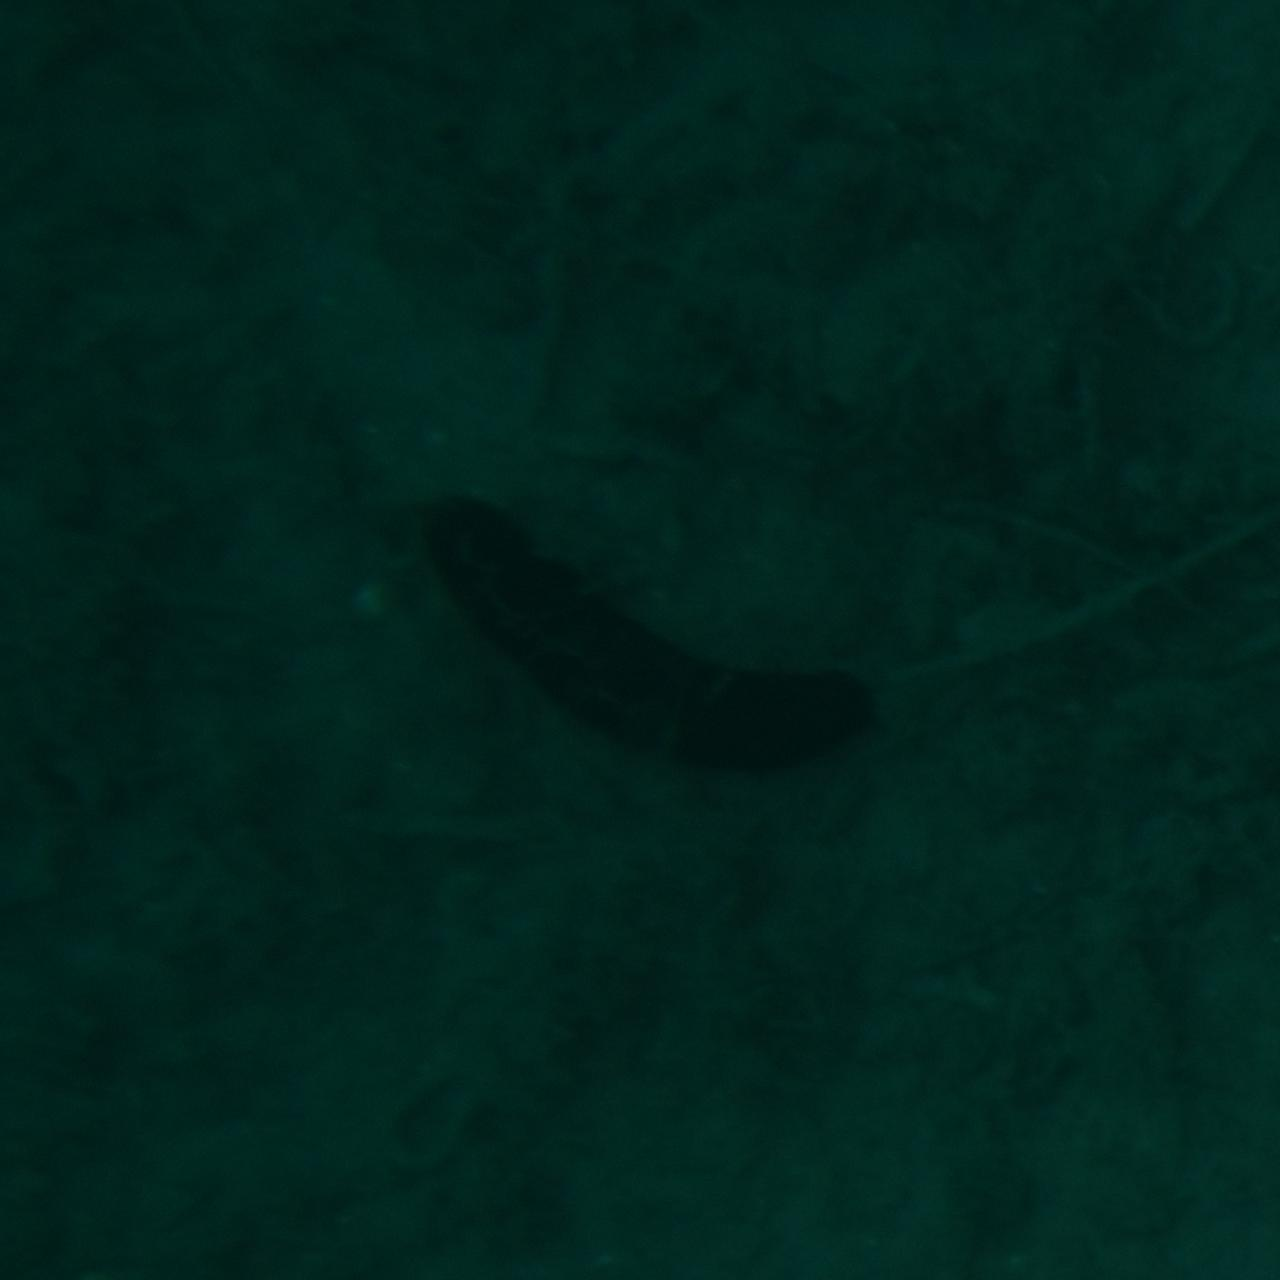Holothuria tubulosa: (406, 500, 874, 780)
